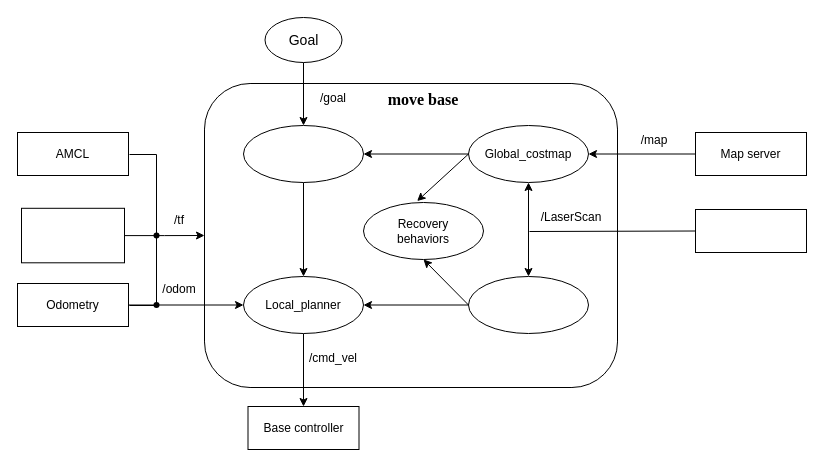
This 824x467 diagram has some shape labels left out. Each missing label, with the centre of its shape:
"Global_planner" goes at point (303, 153).
"Lidar" goes at point (750, 230).
"Local_costmap" goes at point (528, 305).
"sensors transforms" goes at point (72, 235).
